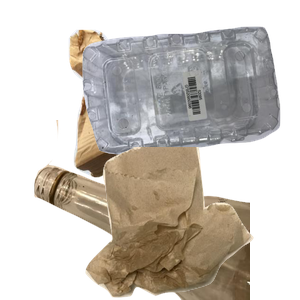cardboard: (66, 27, 242, 197)
glass: (31, 120, 271, 300)
plastic: (80, 24, 300, 172)
trash: (83, 147, 300, 300)
